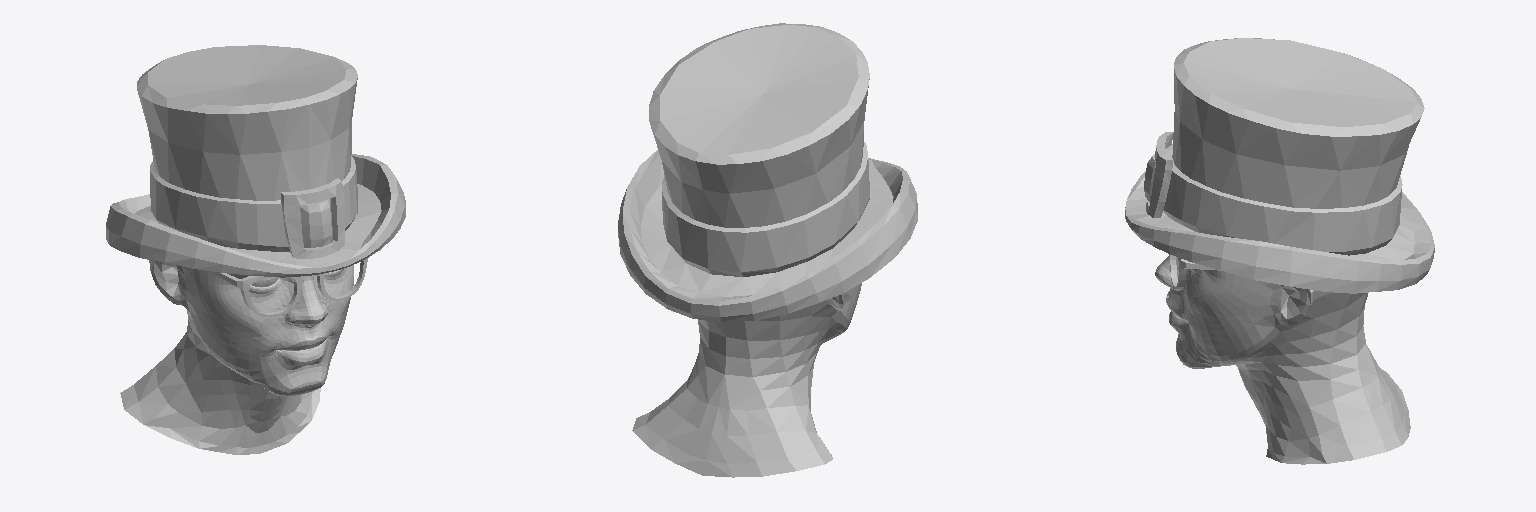
File: avatar.obj
3 views of the same model, side by side, from view 1: azimuth 30°, elevation 25°; view 2: azimuth 150°, elevation 25°; view 3: azimuth 270°, elevation 25° (orthographic).
Visible parts, largest first — view 1: Wolf3D_Headwear_Wolf3D_Headwear.001; view 2: Wolf3D_Headwear_Wolf3D_Headwear.001; view 3: Wolf3D_Headwear_Wolf3D_Headwear.001.
Part boxes in pixels (left/top/right/bottom): Wolf3D_Headwear_Wolf3D_Headwear.001: left=106, top=45, right=405, bottom=454; Wolf3D_Headwear_Wolf3D_Headwear.001: left=618, top=23, right=917, bottom=477; Wolf3D_Headwear_Wolf3D_Headwear.001: left=1125, top=38, right=1434, bottom=464.
Bounding box in the file's own units: 1.23 × 1.73 × 1.26.